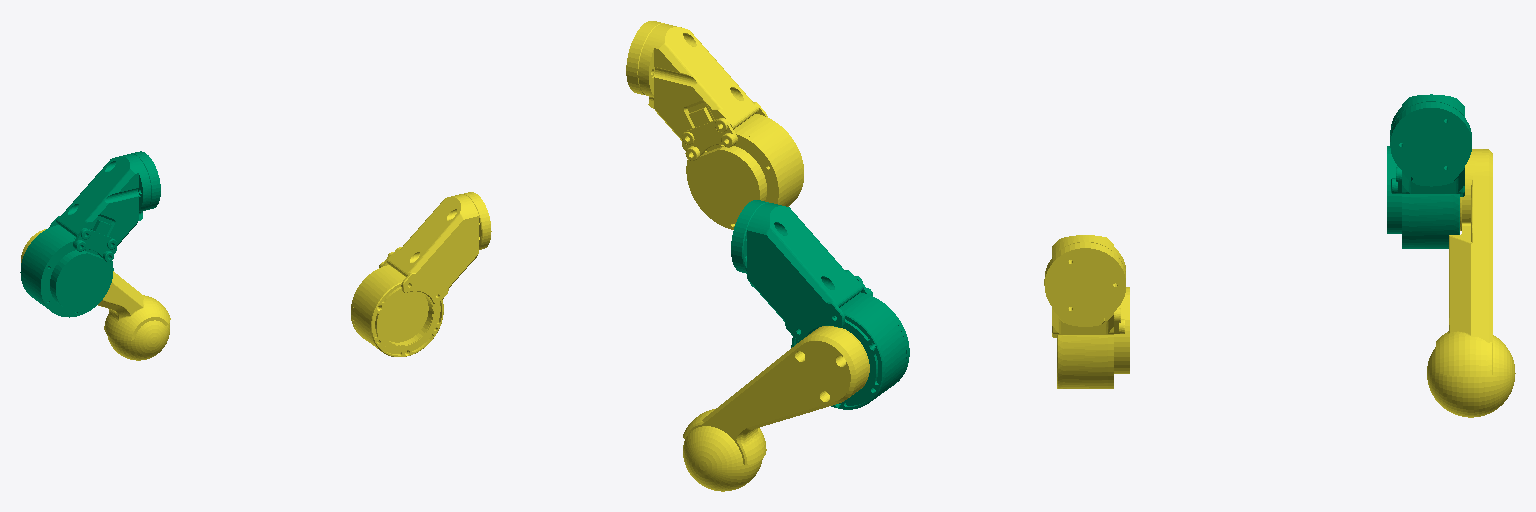
The robot description file, URDF, robot "pupper_v3":
<robot name="pupper_v3" version="1.0">

  <joint name="leg_front_r_1" type="revolute">
    <limit lower="-1.22000" upper="2.51000" effort="3.00000" velocity="100.00000" />
    <origin rpy="1.57080 0.00000 0.00000" xyz="0.07500 -0.08350 0.00000" />
    <parent link="base_link" />
    <child link="leg_front_r_1" />
    <axis xyz="0.00000 0.00000 1.00000" />
  </joint>
  <joint name="leg_front_r_2" type="revolute">
    <limit lower="-0.42000" upper="3.14000" effort="3.00000" velocity="100.00000" />
    <origin rpy="1.49199 -1.57080 -1.49198" xyz="0.00000 0.00000 0.00000" />
    <parent link="leg_front_r_1" />
    <child link="leg_front_r_2" />
    <axis xyz="0.00000 0.00000 1.00000" />
  </joint>
  <joint name="leg_front_r_3" type="revolute">
    <limit lower="-2.79000" upper="0.63000" effort="3.00000" velocity="100.00000" />
    <origin rpy="-0.00000 1.57080 0.00000" xyz="0.00000 -0.04940 0.06850" />
    <parent link="leg_front_r_2" />
    <child link="leg_front_r_3" />
    <axis xyz="0.00000 0.00000 1.00000" />
  </joint>

  <joint name="leg_front_l_1" type="revolute">
    <limit lower="-1.22000" upper="2.51000" effort="3.00000" velocity="100.00000" />
    <origin rpy="-1.57080 0.00000 0.00000" xyz="0.07500 0.08350 0.00000" />
    <parent link="base_link" />
    <child link="leg_front_l_1" />
    <axis xyz="0.00000 0.00000 1.00000" />
  </joint>
  <joint name="leg_front_l_2" type="revolute">
    <limit lower="-0.42000" upper="3.14000" effort="3.00000" velocity="100.00000" />
    <origin rpy="1.57080 1.57080 -1.57080" xyz="0.00000 0.00000 0.00000" />
    <parent link="leg_front_l_1" />
    <child link="leg_front_l_2" />
    <axis xyz="0.00000 0.00000 1.00000" />
  </joint>
  <joint name="leg_front_l_3" type="revolute">
    <limit lower="-2.79000" upper="0.63000" effort="3.00000" velocity="100.00000" />
    <origin rpy="-0.00000 1.57080 3.14159" xyz="0.00000 -0.04940 0.06850" />
    <parent link="leg_front_l_2" />
    <child link="leg_front_l_3" />
    <axis xyz="0.00000 0.00000 1.00000" />
  </joint>


  <joint name="leg_back_r_1" type="revolute">
    <limit lower="-1.22000" upper="2.51000" effort="3.00000" velocity="100.00000" />
    <origin rpy="1.57080 0.00000 0.00000" xyz="-0.07500 -0.07250 0.00000" />
    <parent link="base_link" />
    <child link="leg_back_r_1" />
    <axis xyz="0.00000 0.00000 1.00000" />
  </joint>
  <joint name="leg_back_r_2" type="revolute">
    <limit lower="-0.42000" upper="3.14000" effort="3.00000" velocity="100.00000" />
    <origin rpy="1.49199 -1.57080 -1.49198" xyz="0.00000 0.00000 0.00000" />
    <parent link="leg_back_r_1" />
    <child link="leg_back_r_2" />
    <axis xyz="0.00000 0.00000 1.00000" />
  </joint>
  <joint name="leg_back_r_3" type="revolute">
    <limit lower="-2.79000" upper="0.63000" effort="3.00000" velocity="100.00000" />
    <origin rpy="-0.00000 1.57080 0.00000" xyz="0.00000 -0.04940 0.06850" />
    <parent link="leg_back_r_2" />
    <child link="leg_back_r_3" />
    <axis xyz="0.00000 0.00000 1.00000" />
  </joint>

  <joint name="leg_back_l_1" type="revolute">
    <limit lower="-1.22000" upper="2.51000" effort="3.00000" velocity="100.00000" />
    <origin rpy="-1.57080 0.00000 0.00000" xyz="-0.07500 0.07250 0.00000" />
    <parent link="base_link" />
    <child link="leg_back_l_1" />
    <axis xyz="0.00000 0.00000 1.00000" />
  </joint>
  <joint name="leg_back_l_2" type="revolute">
    <limit lower="-0.42000" upper="3.14000" effort="3.00000" velocity="100.00000" />
    <origin rpy="1.57080 1.57080 -1.57080" xyz="0.00000 0.00000 0.00000" />
    <parent link="leg_back_l_1" />
    <child link="leg_back_l_2" />
    <axis xyz="0.00000 0.00000 1.00000" />
  </joint>
  <joint name="leg_back_l_3" type="revolute">
    <limit lower="-2.79000" upper="0.63000" effort="3.00000" velocity="100.00000" />
    <origin rpy="-0.00000 1.57080 3.14159" xyz="0.00000 -0.04940 0.06850" />
    <parent link="leg_back_l_2" />
    <child link="leg_back_l_3" />
    <axis xyz="0.00000 0.00000 1.00000" />
  </joint>


  <link name="base_link">
    <collision name="body_collision">
      <origin rpy="-1.57080 -0.00000 1.57080" xyz="0.02146 -0.00000 0.03345" />
      <geometry>
        <box size="0.09014 0.12758 0.25943" />
      </geometry>
    </collision>
    <inertial>
      <inertia ixx="0.00240" ixy="0.000000" ixz="-0.0005" iyy="0.00850" iyz="0.00000" izz="0.00850" />
      <origin rpy="0.00000 0.00000 0.00000" xyz="0.02500 0.00000 0.01500" />
      <mass value="1.506" />
    </inertial>
    <visual name="body">
      <origin rpy="-1.57080 -0.00000 1.57080" xyz="0.00000 0.00000 0.00000" />
      <geometry>
        <mesh filename="package://pupper_v3_description/description/meshes/dae/BodyV4v70.001.dae" scale="1.00000 1.00000 1.00000" />
      </geometry>
    </visual>
  </link>
  <link name="leg_back_l_1">
    <inertial>
      <inertia ixx="0.000074" ixy="0.0" ixz="0.0" iyy="0.000058" iyz="0.0" izz="0.000048" />
      <origin rpy="0.00000 0.00000 0.00000" xyz="-0.00129 0.00081 -0.00595" />
      <mass value="0.18000" />
    </inertial>
    <visual name="Leg Assembly For Flanged v26.012">
      <origin rpy="0.00000 0.00000 3.14159" xyz="0.00000 0.00000 -0.02800" />
      <geometry>
        <mesh filename="package://pupper_v3_description/description/meshes/dae/LegAssemblyForFlangedv26.013.dae" scale="1.00000 1.00000 1.00000" />
      </geometry>
    </visual>
  </link>
  <link name="leg_back_l_2">
    <collision name="Cylinder.003">
      <origin rpy="-0.00000 1.57080 0.00000" xyz="0.00000 -0.04940 0.06850" />
      <geometry>
        <cylinder radius="0.02500" length="0.03000" />
      </geometry>
    </collision>
    <inertial>
      <inertia ixx="0.000113" ixy="0.0" ixz="0.0" iyy="0.000067" iyz="0.000025" izz="0.000077" />
      <origin rpy="0.00000 0.00000 0.00000" xyz="-0.00173 -0.03340 0.05419" />
      <mass value="0.18600" />
    </inertial>
    <visual name="Leg Assembly For Flanged v26.013">
      <origin rpy="0.26213 -1.57080 2.87947" xyz="+0.02800 -0.00000 -0.00000" />
      <geometry>
        <mesh filename="package://pupper_v3_description/description/meshes/dae/LegAssemblyForFlangedv26.014.dae" scale="1.00000 1.00000 -1.00000" />
      </geometry>
    </visual>
  </link>
  <link name="leg_back_l_3">
    <collision name="Leg Assembly For Flanged v26.016">
      <origin rpy="-0.00000 0.00000 3.14159" xyz="0.06231 0.06216 0.01800" />
      <geometry>
        <sphere radius="0.01995" />
      </geometry>
    </collision>
    <inertial>
      <inertia ixx="0.0000405" ixy="-0.000035" ixz="0.0" iyy="0.0000405" iyz="0.0" izz="0.000077" />
      <origin rpy="0.00000 0.00000 0.00000" xyz="0.03866 0.03585 0.01833" />
      <mass value="0.05000" />
    </inertial>
    <visual name="Leg Assembly For Flanged v26.014">
      <origin rpy="3.14159 0.00000 3.14159" xyz="0.06850 -0.04940 -0.02800" />
      <geometry>
        <mesh filename="package://pupper_v3_description/description/meshes/dae/LegAssemblyForFlangedv26.015.dae" scale="1.00000 1.00000 -1.00000" />
      </geometry>
    </visual>
  </link>
  <link name="leg_back_r_1">
    <inertial>
      <inertia ixx="0.000074" ixy="0.0" ixz="0.0" iyy="0.000058" iyz="0.0" izz="0.000048" />
      <origin rpy="0.00000 0.00000 0.00000" xyz="-0.00129 0.00081 -0.00595" />
      <mass value="0.18000" />
    </inertial>
    <visual name="Leg Assembly For Flanged v26.004">
      <origin rpy="0.00000 0.00000 3.14159" xyz="0.00000 0.00000 -0.02800" />
      <geometry>
        <mesh filename="package://pupper_v3_description/description/meshes/dae/LegAssemblyForFlangedv26.005.dae" scale="1.00000 1.00000 1.00000" />
      </geometry>
    </visual>
  </link>
  <link name="leg_back_r_2">
    <collision name="Cylinder.001">
      <origin rpy="-0.00000 1.57080 0.00000" xyz="0.00000 -0.04940 0.06850" />
      <geometry>
        <cylinder radius="0.02500" length="0.03000" />
      </geometry>
    </collision>
    <inertial>
      <inertia ixx="0.000113" ixy="0.0" ixz="0.0" iyy="0.000067" iyz="0.000025" izz="0.000077" />
      <origin rpy="0.00000 0.00000 0.00000" xyz="-0.00173 -0.03340 0.05419" />
      <mass value="0.18600" />
    </inertial>
    <visual name="Leg Assembly For Flanged v26.005">
      <origin rpy="0.26213 -1.57080 2.87947" xyz="-0.02800 -0.00000 -0.00000" />
      <geometry>
        <mesh filename="package://pupper_v3_description/description/meshes/dae/LegAssemblyForFlangedv26.006.dae" scale="1.00000 1.00000 1.00000" />
      </geometry>
    </visual>
  </link>
  <link name="leg_back_r_3">
    <collision name="Leg Assembly For Flanged v26.008">
      <origin rpy="-0.00000 0.00000 3.14159" xyz="0.06231 -0.06216 0.01800" />
      <geometry>
        <sphere radius="0.01995" />
      </geometry>
    </collision>
    <inertial>
      <inertia ixx="0.0000405" ixy="0.000035" ixz="0.0" iyy="0.0000405" iyz="0.0" izz="0.000077" />
      <origin rpy="0.00000 0.00000 0.00000" xyz="0.03866 -0.03585 0.01833" />
      <mass value="0.05000" />
    </inertial>
    <visual name="Leg Assembly For Flanged v26.006">
      <origin rpy="-0.00000 0.00000 3.14159" xyz="0.06850 0.04940 -0.02800" />
      <geometry>
        <mesh filename="package://pupper_v3_description/description/meshes/dae/LegAssemblyForFlangedv26.007.dae" scale="1.00000 1.00000 1.00000" />
      </geometry>
    </visual>
  </link>
  <link name="leg_front_l_1">
    <inertial>
      <inertia ixx="0.000074" ixy="0.0" ixz="0.0" iyy="0.000058" iyz="0.0" izz="0.000048" />
      <origin rpy="0.00000 0.00000 0.00000" xyz="-0.00129 0.00081 -0.00595" />
      <mass value="0.18000" />
    </inertial>
    <visual name="Leg Assembly For Flanged v26.009">
      <origin rpy="0.00000 0.00000 3.14159" xyz="0.00000 0.00000 -0.02800" />
      <geometry>
        <mesh filename="package://pupper_v3_description/description/meshes/dae/LegAssemblyForFlangedv26.010.dae" scale="1.00000 -1.00000 1.00000" />
      </geometry>
    </visual>
  </link>
  <link name="leg_front_l_2">
    <collision name="Cylinder.002">
      <origin rpy="-0.00000 1.57080 0.00000" xyz="0.00000 -0.04940 0.06850" />
      <geometry>
        <cylinder radius="0.02500" length="0.03000" />
      </geometry>
    </collision>
    <inertial>
      <inertia ixx="0.000113" ixy="0.0" ixz="0.0" iyy="0.000067" iyz="0.000025" izz="0.000077" />
      <origin rpy="0.00000 0.00000 0.00000" xyz="-0.00173 -0.03340 0.05419" />
      <mass value="0.18600" />
    </inertial>
    <visual name="Leg Assembly For Flanged v26.010">
      <origin rpy="0.26213 -1.57080 2.87947" xyz="+0.02800 -0.00000 -0.00000" />
      <geometry>
        <mesh filename="package://pupper_v3_description/description/meshes/dae/LegAssemblyForFlangedv26.011.dae" scale="1.00000 1.00000 -1.00000" />
      </geometry>
    </visual>
  </link>
  <link name="leg_front_l_3">
    <collision name="Leg Assembly For Flanged v26.015">
      <origin rpy="-0.00000 0.00000 3.14159" xyz="0.06231 0.06216 0.01800" />
      <geometry>
        <sphere radius="0.01995" />
      </geometry>
    </collision>
    <inertial>
      <inertia ixx="0.0000405" ixy="-0.000035" ixz="0.0" iyy="0.0000405" iyz="0.0" izz="0.000077" />
      <origin rpy="0.00000 0.00000 0.00000" xyz="0.03866 0.03585 0.01833" />
      <mass value="0.05000" />
    </inertial>
    <visual name="Leg Assembly For Flanged v26.011">
      <origin rpy="3.14159 0.00000 3.14159" xyz="0.06850 -0.04940 -0.02800" />
      <geometry>
        <mesh filename="package://pupper_v3_description/description/meshes/dae/LegAssemblyForFlangedv26.012.dae" scale="1.00000 1.00000 -1.00000" />
      </geometry>
    </visual>
  </link>
  <link name="leg_front_r_1">
    <inertial>
      <inertia ixx="0.000074" ixy="0.0" ixz="0.0" iyy="0.000058" iyz="0.0" izz="0.000048" />
      <origin rpy="0.00000 0.00000 0.00000" xyz="-0.00129 0.00081 -0.00595" />
      <mass value="0.18000" />
    </inertial>
    <visual name="Leg Assembly For Flanged v26.001">
      <origin rpy="0.00000 0.00000 3.14159" xyz="0.00000 0.00000 -0.02800" />
      <geometry>
        <mesh filename="package://pupper_v3_description/description/meshes/dae/LegAssemblyForFlangedv26.001.dae" scale="1.00000 1.00000 1.00000" />
      </geometry>
    </visual>
  </link>
  <link name="leg_front_r_2">
    <collision name="Cylinder">
      <origin rpy="-0.00000 1.57080 0.00000" xyz="0.00000 -0.04940 0.06850" />
      <geometry>
        <cylinder radius="0.02500" length="0.03000" />
      </geometry>
    </collision>
    <inertial>
      <inertia ixx="0.000113" ixy="0.0" ixz="0.0" iyy="0.000067" iyz="0.000025" izz="0.000077" />
      <origin rpy="0.00000 0.00000 0.00000" xyz="-0.00173 -0.03340 0.05419" />
      <mass value="0.18600" />
    </inertial>
    <visual name="Leg Assembly For Flanged v26.002">
      <origin rpy="0.26213 -1.57080 2.87947" xyz="-0.02800 -0.00000 -0.00000" />
      <geometry>
        <mesh filename="package://pupper_v3_description/description/meshes/dae/LegAssemblyForFlangedv26.002.dae" scale="1.00000 1.00000 1.00000" />
      </geometry>
    </visual>
  </link>
  <link name="leg_front_r_3">
    <collision name="Leg Assembly For Flanged v26.007">
      <origin rpy="-0.00000 0.00000 3.14159" xyz="0.06231 -0.06216 0.01800" />
      <geometry>
        <sphere radius="0.01995" />
      </geometry>
    </collision>
    <inertial>
      <inertia ixx="0.0000405" ixy="0.000035" ixz="0.0" iyy="0.0000405" iyz="0.0" izz="0.000077" />
      <origin rpy="0.00000 0.00000 0.00000" xyz="0.03866 -0.03585 0.01833" />
      <mass value="0.05000" />
    </inertial>
    <visual name="Leg Assembly For Flanged v26.003">
      <origin rpy="-0.00000 0.00000 3.14159" xyz="0.06850 0.04940 -0.02800" />
      <geometry>
        <mesh filename="package://pupper_v3_description/description/meshes/dae/LegAssemblyForFlangedv26.003.dae" scale="1.00000 1.00000 1.00000" />
      </geometry>
    </visual>
  </link>
</robot>

--- What the picture shows (computed from the rendered views, not written in the file) ---
3 views of the same robot in one strip: view 1: azimuth 30°, elevation 25°; view 2: azimuth 150°, elevation 25°; view 3: azimuth 270°, elevation 25° (orthographic).
Robot: pupper_v3 — 13 links, 12 joints (12 revolute); root link base_link; default pose: every joint at zero.
Links seen in each view (by area): view 1: leg_front_r_2, leg_back_l_2, leg_back_l_3; view 2: leg_front_r_2, leg_back_l_2, leg_back_l_3; view 3: leg_back_l_3, leg_front_r_2, leg_back_l_2.
Link boxes in pixels (bbox=[...]): leg_front_r_2: bbox=[351, 192, 491, 356]; leg_back_l_2: bbox=[20, 151, 160, 317]; leg_back_l_3: bbox=[21, 229, 170, 360]; leg_front_r_2: bbox=[626, 21, 803, 229]; leg_back_l_2: bbox=[731, 200, 909, 409]; leg_back_l_3: bbox=[683, 326, 869, 491]; leg_back_l_3: bbox=[1427, 149, 1515, 417]; leg_front_r_2: bbox=[1044, 235, 1129, 388]; leg_back_l_2: bbox=[1387, 94, 1471, 248].
Bounding box of the posed robot: 0.2342 × 0.2125 × 0.15 m (x, y, z).
Meshes: 13 distinct files referenced, 3 mesh visuals loaded (3 Collada DAE); not drawn: 10 (reference not matched to a file when rendering).